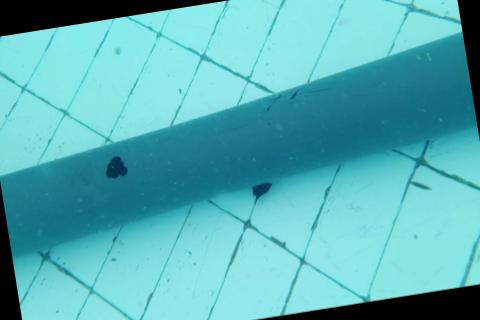kebocoran: (102, 152, 130, 180)
keretakan: (253, 83, 333, 115)
